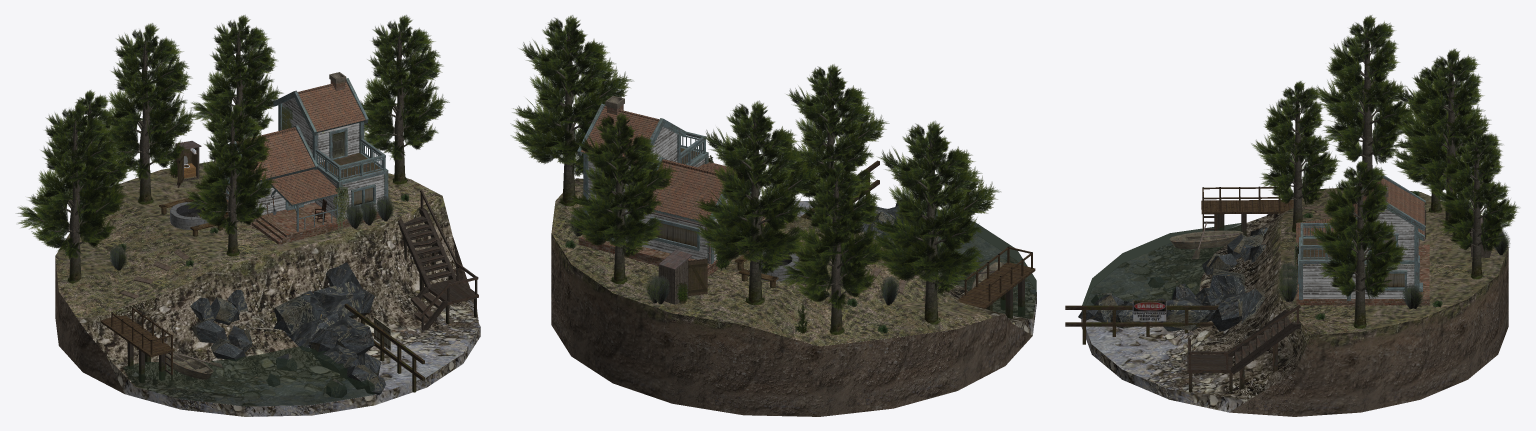
The model's file is sceen_5_bagian_4_ruang_hijau_kota_1.glb.
3 renders of one model, left to right at view 1: azimuth 30°, elevation 25°; view 2: azimuth 150°, elevation 25°; view 3: azimuth 270°, elevation 25°, orthographic. The views are drawn at different scales.
Parts seen in each view (by area): view 1: pasted__polySurface100_T_plants_0, polySurface1_T_cliff_0, polySurface1_grass_0, pasted__pPlatonic10_T_rocks_0, polySurface2_water_sh_0, pasted__polySurface100_T_aiStandardSurface3_0, polySurface4_T_roof_0, stairs_T_stairway_0, polySurface4_T_wallBeams_0, polySurface4_T_walls_0, polySurface1_cliffsides_0, bridge_T_Bridge_0 (+9 smaller); view 2: pasted__polySurface100_T_plants_0, polySurface1_cliffsides_0, polySurface1_grass_0, pasted__polySurface100_T_aiStandardSurface3_0, polySurface4_T_roof_0, polySurface2_water_sh_0, polySurface4_T_wallBeams_0, bridge_T_Bridge_0, polySurface1_T_cliff_0, polySurface4_T_walls_0, plants1_T_plants3_0, pasted__pCylinder8_T_toiletBase_0 (+5 smaller); view 3: pasted__polySurface100_T_plants_0, polySurface1_T_cliff_0, polySurface1_cliffsides_0, polySurface1_grass_0, pasted__polySurface100_T_aiStandardSurface3_0, pasted__pPlatonic10_T_rocks_0, polySurface2_water_sh_0, stairs_T_stairway_0, polySurface4_T_walls_0, polySurface4_T_wallBeams_0, bridge_T_Bridge_0, fence_T_fence_0 (+5 smaller).
Part boxes in pixels (bbox=[...]): pasted__polySurface100_T_plants_0: bbox=[16, 15, 449, 260]; polySurface1_T_cliff_0: bbox=[77, 196, 480, 416]; polySurface1_grass_0: bbox=[55, 161, 442, 317]; pasted__pPlatonic10_T_rocks_0: bbox=[190, 262, 385, 397]; polySurface2_water_sh_0: bbox=[123, 346, 374, 406]; pasted__polySurface100_T_aiStandardSurface3_0: bbox=[34, 28, 431, 281]; polySurface4_T_roof_0: bbox=[236, 81, 365, 204]; stairs_T_stairway_0: bbox=[398, 190, 478, 330]; polySurface4_T_wallBeams_0: bbox=[217, 78, 388, 231]; polySurface4_T_walls_0: bbox=[219, 98, 384, 219]; polySurface1_cliffsides_0: bbox=[55, 237, 473, 393]; bridge_T_Bridge_0: bbox=[100, 307, 174, 382]; pasted__polySurface100_T_plants_0: bbox=[510, 15, 1000, 333]; polySurface1_cliffsides_0: bbox=[551, 233, 1032, 416]; polySurface1_grass_0: bbox=[551, 178, 992, 346]; pasted__polySurface100_T_aiStandardSurface3_0: bbox=[532, 29, 977, 332]; polySurface4_T_roof_0: bbox=[580, 106, 747, 221]; polySurface2_water_sh_0: bbox=[875, 208, 1036, 318]; polySurface4_T_wallBeams_0: bbox=[577, 103, 751, 264]; bridge_T_Bridge_0: bbox=[958, 246, 1035, 318]; polySurface1_T_cliff_0: bbox=[759, 200, 1036, 335]; polySurface4_T_walls_0: bbox=[588, 127, 748, 261]; plants1_T_plants3_0: bbox=[565, 207, 899, 333]; pasted__pCylinder8_T_toiletBase_0: bbox=[658, 249, 692, 304]; pasted__polySurface100_T_plants_0: bbox=[1251, 15, 1519, 298]; polySurface1_T_cliff_0: bbox=[1081, 197, 1311, 412]; polySurface1_cliffsides_0: bbox=[1229, 248, 1508, 416]; polySurface1_grass_0: bbox=[1280, 188, 1508, 335]; pasted__polySurface100_T_aiStandardSurface3_0: bbox=[1271, 27, 1501, 326]; pasted__pPlatonic10_T_rocks_0: bbox=[1078, 227, 1267, 331]; polySurface2_water_sh_0: bbox=[1081, 223, 1241, 310]; stairs_T_stairway_0: bbox=[1187, 305, 1300, 392]; polySurface4_T_walls_0: bbox=[1303, 209, 1414, 298]; polySurface4_T_wallBeams_0: bbox=[1297, 175, 1425, 300]; bridge_T_Bridge_0: bbox=[1201, 186, 1293, 236]; fence_T_fence_0: bbox=[1065, 305, 1218, 344].
Bounding box in the file's own units: 32.02 × 19.19 × 30.81.
39 materials, 37 textured.
